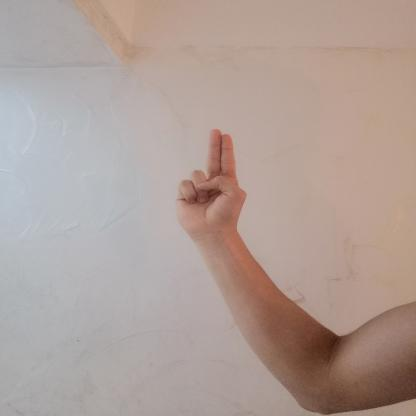TA: (156, 115, 258, 250)
